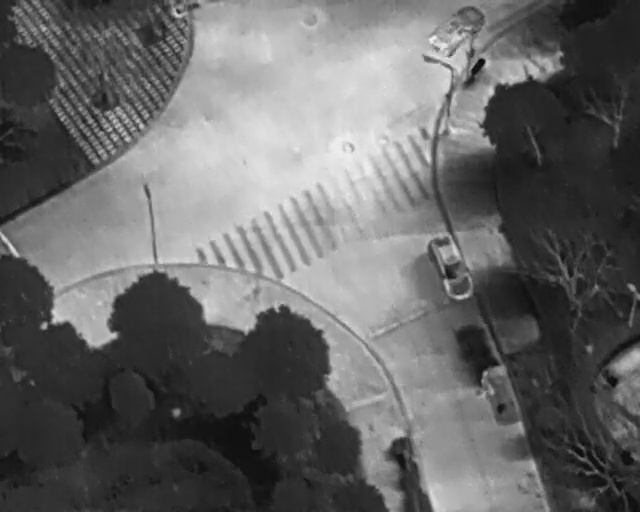Car: (420, 228, 482, 306), (426, 0, 488, 61), (475, 362, 525, 430)
